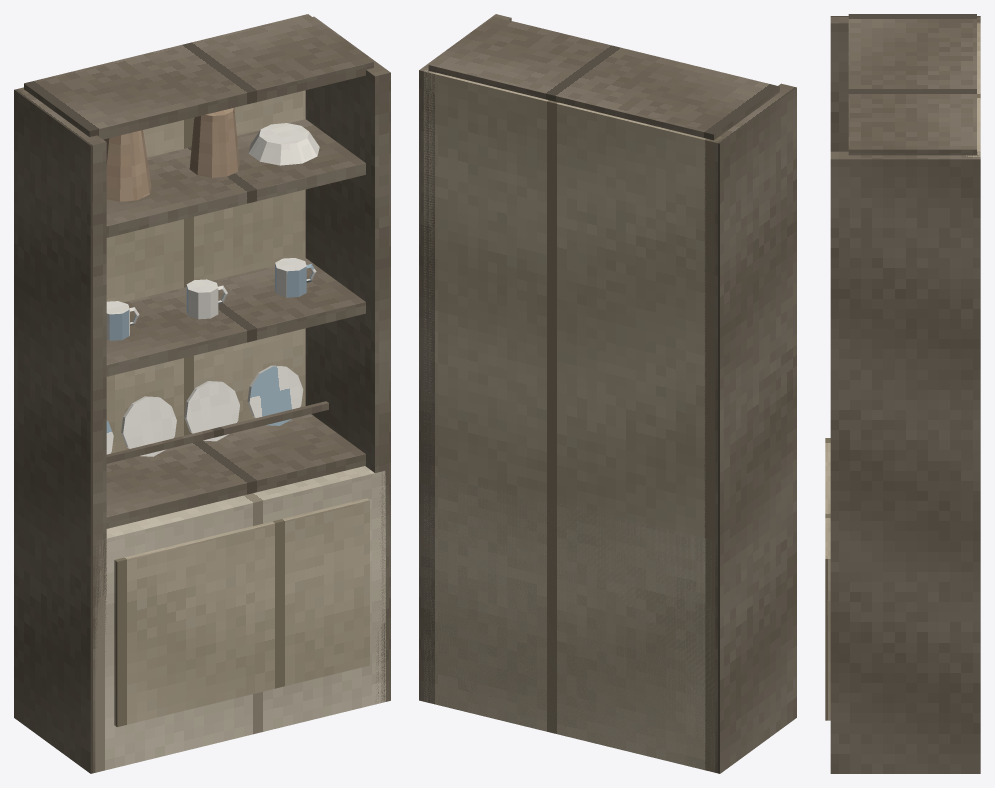
File: dish_cupboard.obj
The picture shows the model from 3 angles, left to right: view 1: azimuth 30°, elevation 25°; view 2: azimuth 150°, elevation 25°; view 3: azimuth 270°, elevation 25°; orthographic projection. The views are drawn at different scales.
Parts seen in each view (by area): view 1: dish_cupboard; view 2: dish_cupboard; view 3: dish_cupboard.
Part boxes in pixels (x1,y1,x2,y2): dish_cupboard: [14, 14, 390, 773]; dish_cupboard: [419, 14, 796, 773]; dish_cupboard: [825, 14, 980, 773].
Size of the model in its own units: 0.95 by 1.92 by 0.435.
